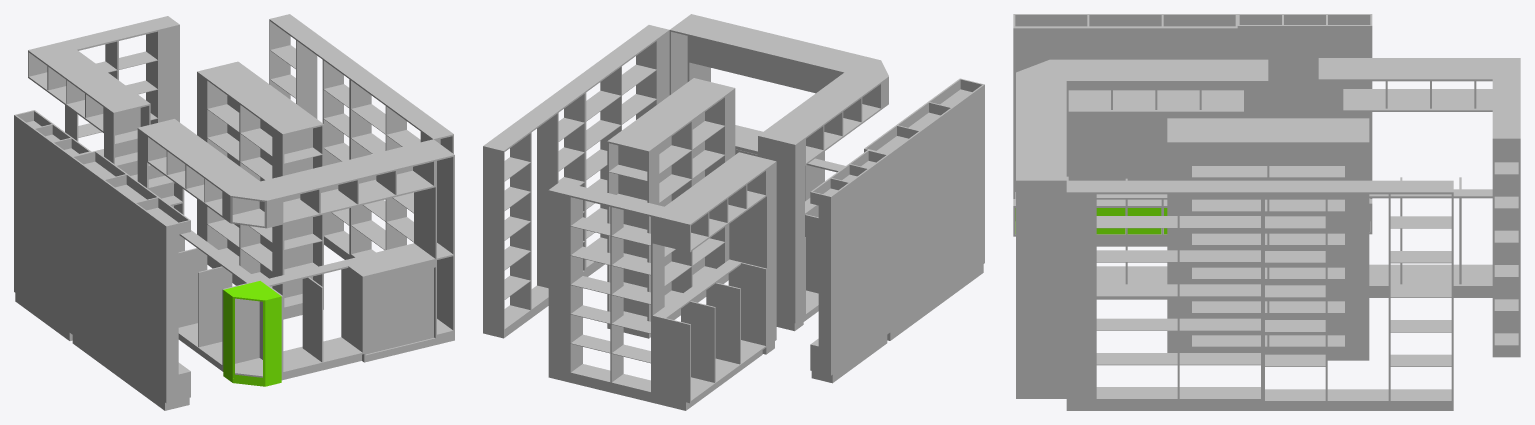
Rendered from farmaCIA.glb.
3 views of the same model, side by side, from view 1: azimuth 30°, elevation 25°; view 2: azimuth 150°, elevation 25°; view 3: azimuth 270°, elevation 25° (orthographic). The views are drawn at different scales.
Parts seen in each view (by area): view 1: root; view 2: root; view 3: root.
Part boxes in pixels (left/top/right/bottom): root: left=14, top=14, right=454, bottom=410; root: left=483, top=14, right=984, bottom=410; root: left=1013, top=14, right=1520, bottom=410.
Bounding box in the file's own units: 3.76 × 2.15 × 4.52.
